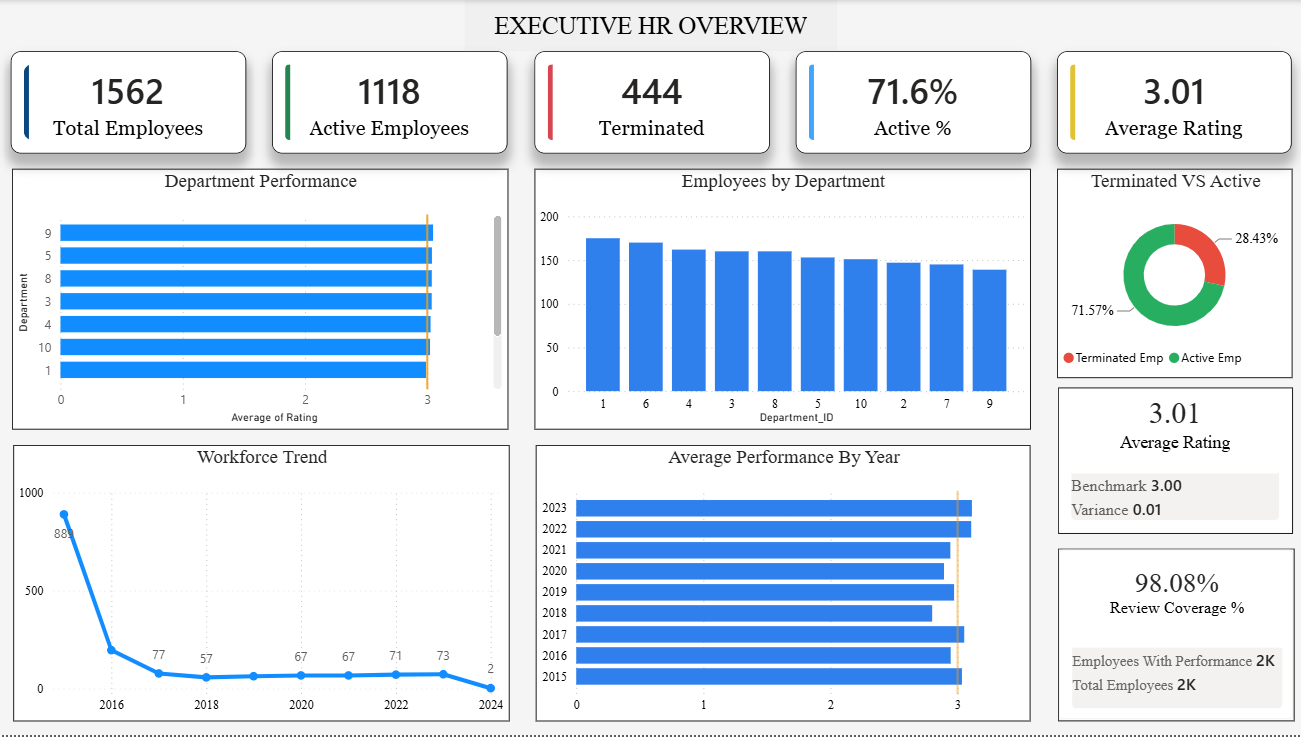

The page's visual inventory and layout, read from the dashboard file:
{"tool":"powerbi","page":{"name":"Page 1","canvas":[1280,720],"ordinal":0},"visuals":[{"type":"cardVisual","fields":{"Data":["Table.Total Employees"]},"box":[13.5,50.4,230,100],"z":0,"group":"g1"},{"type":"donutChart","title":"Terminated  VS Active ","fields":{"Y":["Table.Terminated Employees","Table.Active Employees"]},"box":[1037,165.1,230.5,204.5],"z":0},{"type":"cardVisual","fields":{"Data":["Table.Terminated Employees"]},"box":[525.3,50.4,230,100],"z":1000,"group":"g1"},{"type":"columnChart","title":"Employees by Department","fields":{"Category":["tbl_Employee.DepID"],"Y":["Table.Total Employees"]},"box":[525.8,165.1,485.5,255.6],"z":1000},{"type":"cardVisual","fields":{"Data":["Table.Active %"]},"box":[781.1,50.4,230,100],"z":2000,"group":"g1"},{"type":"lineChart","title":"Workforce Trend","fields":{"Category":["tbl_Employee.EngDt.Variation.Date Hierarchy.Year","tbl_Employee.EngDt.Variation.Date Hierarchy.Month"],"Y":["Table.Total Employees"]},"box":[15.9,435.3,485.5,270.2],"z":2000},{"type":"cardVisual","fields":{"Data":["Table.Average Rating"]},"box":[1037,50.1,229.9,100.3],"z":3000,"group":"g1"},{"type":"clusteredBarChart","title":"Average Performance By Year","fields":{"Category":["tbl_Employee.EngDt.Variation.Date Hierarchy.Year"],"Y":["Avg(tbl_Perf.Rating)"]},"box":[527,435.3,484.2,270.2],"z":3000},{"type":"cardVisual","fields":{"Data":["Table.Average Rating"]},"box":[1038.2,379.1,229.9,143.1],"z":4000},{"type":"cardVisual","fields":{"Data":["Table.Review Coverage %"]},"box":[1038.2,536.8,231.1,168.8],"z":5000},{"type":"clusteredBarChart","title":"Department Performance","fields":{"Category":["tbl_Employee.DepID"],"Y":["Avg(tbl_Perf.Rating)"]},"box":[14.7,165.1,485.5,255.6],"z":6000},{"type":"group","id":"g1","title":"Group 1","box":[13.5,50.1,1253.4,100.3],"z":7000},{"type":"shape","box":[457.3,0,364.4,50.1],"z":8000},{"type":"cardVisual","fields":{"Data":["Table.Active Employees"]},"box":[269.4,50.4,230,100],"z":11000,"group":"g1"}]}

Visuals, with their boxes in screenshot pixels (x1, y1, x2, y2), scaled from the page's 1280x720 canvas onto the 1301x737 screenshot:
cardVisual - Table.Total Employees: [14, 52, 247, 154]
"Terminated  VS Active " donutChart: [1054, 169, 1288, 378]
cardVisual - Table.Terminated Employees: [534, 52, 768, 154]
"Employees by Department" columnChart: [534, 169, 1028, 431]
cardVisual - Table.Active %: [794, 52, 1028, 154]
"Workforce Trend" lineChart: [16, 446, 510, 722]
cardVisual - Table.Average Rating: [1054, 51, 1288, 154]
"Average Performance By Year" clusteredBarChart: [536, 446, 1028, 722]
cardVisual - Table.Average Rating: [1055, 388, 1289, 535]
cardVisual - Table.Review Coverage %: [1055, 549, 1290, 722]
"Department Performance" clusteredBarChart: [15, 169, 508, 431]
"Group 1" group: [14, 51, 1288, 154]
shape: [465, 0, 835, 51]
cardVisual - Table.Active Employees: [274, 52, 508, 154]
